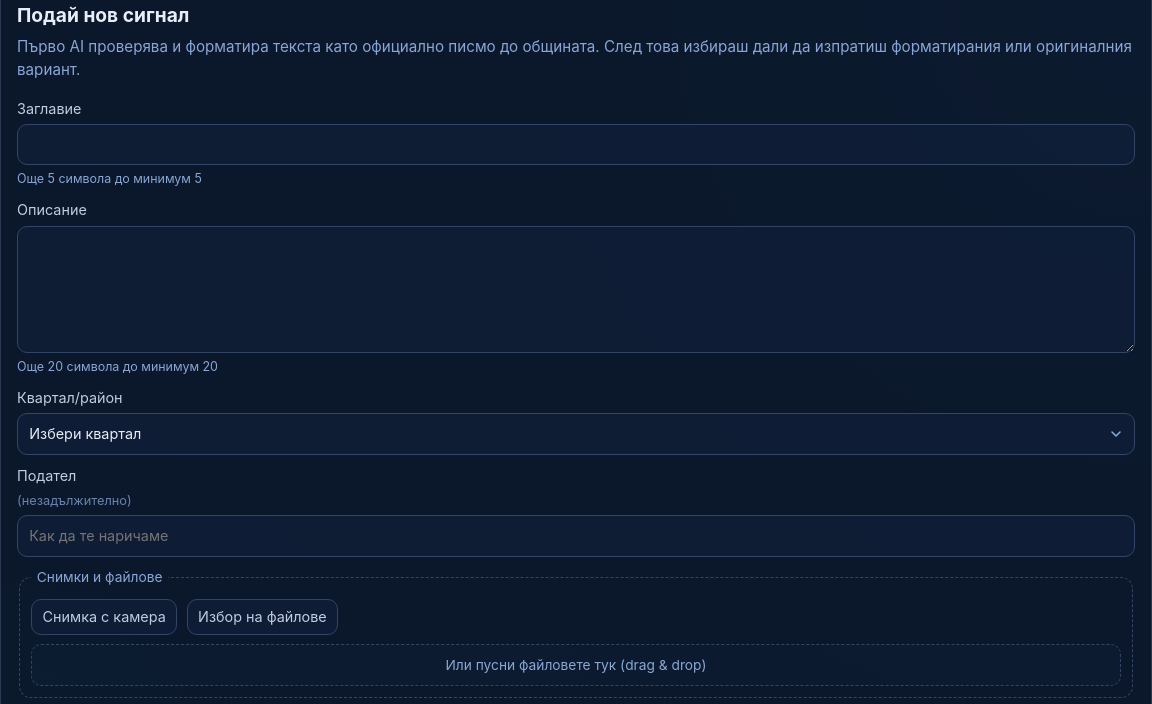
SignalForm › hides the original-text button when allow_original is false
The image size is (1152, 704).
Type "Test signal title" into the field labelled "Заглавие".
click(576, 145); type("Test signal title")  # box x1=17 y1=124 x2=1135 y2=165
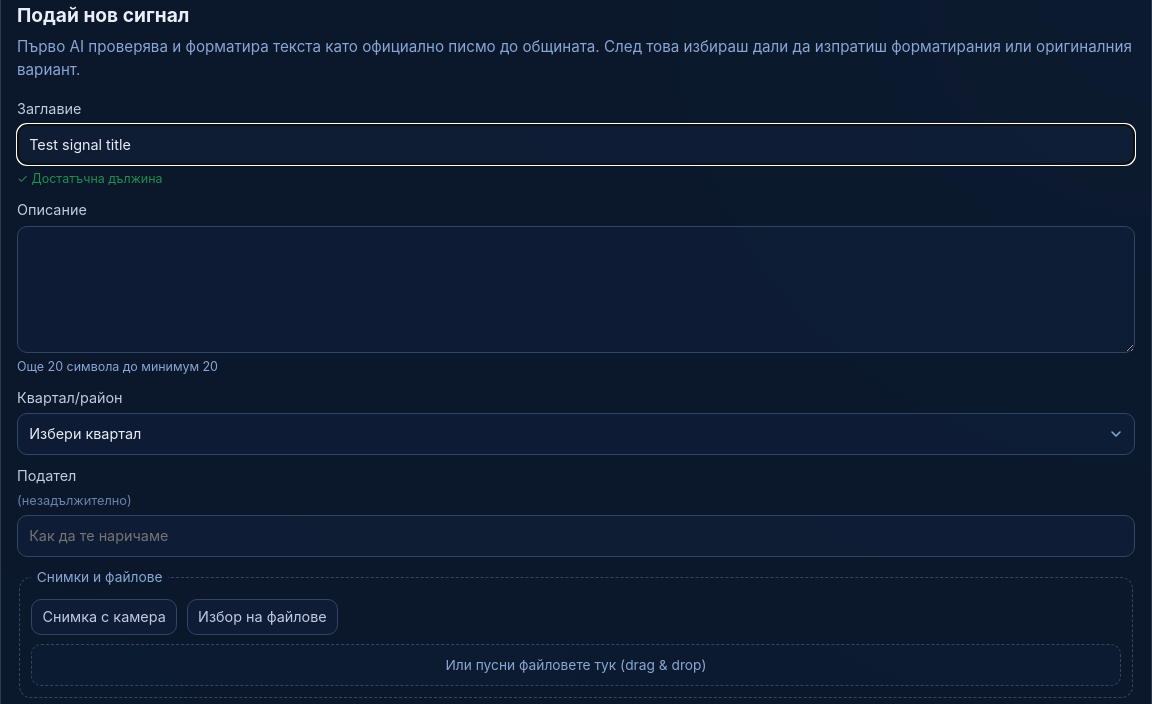
Type "This description is definitely long enough to pass validation." into the text box labelled "Описание".
click(576, 289); type("This description is definitely long enough to pass validation.")  # box x1=17 y1=226 x2=1135 y2=353
(page scrolled)
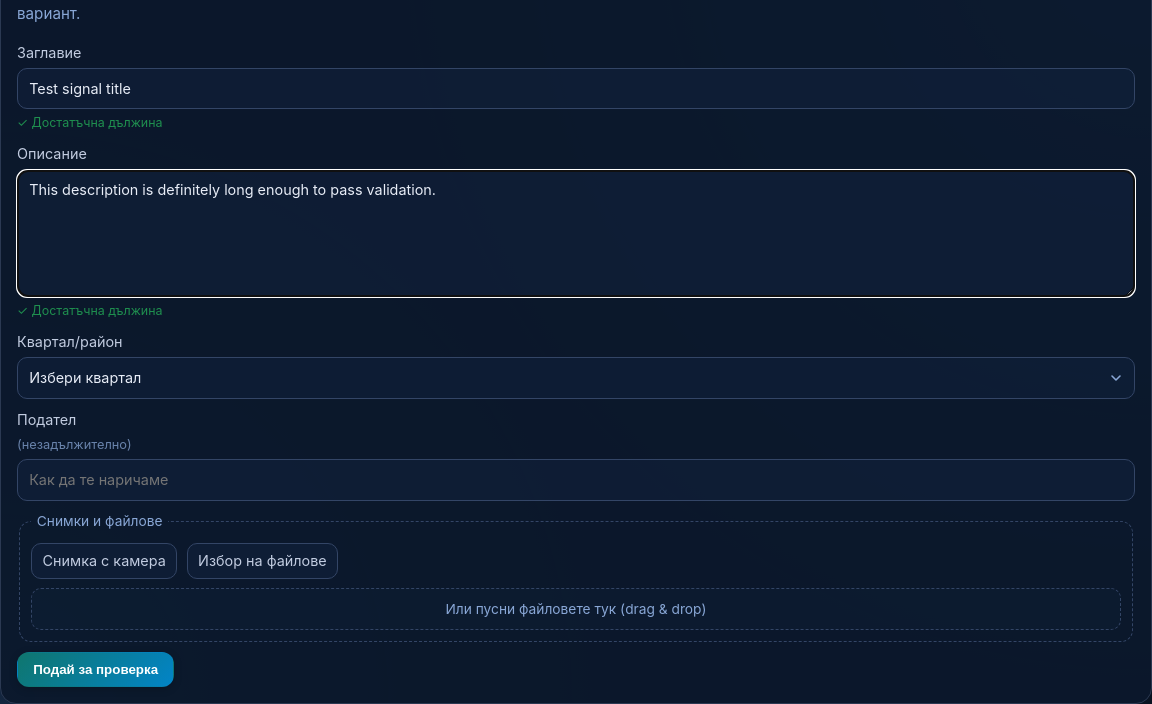
Click the button "Подай за проверка".
click(96, 670)  # box x1=17 y1=652 x2=174 y2=687
(page scrolled)
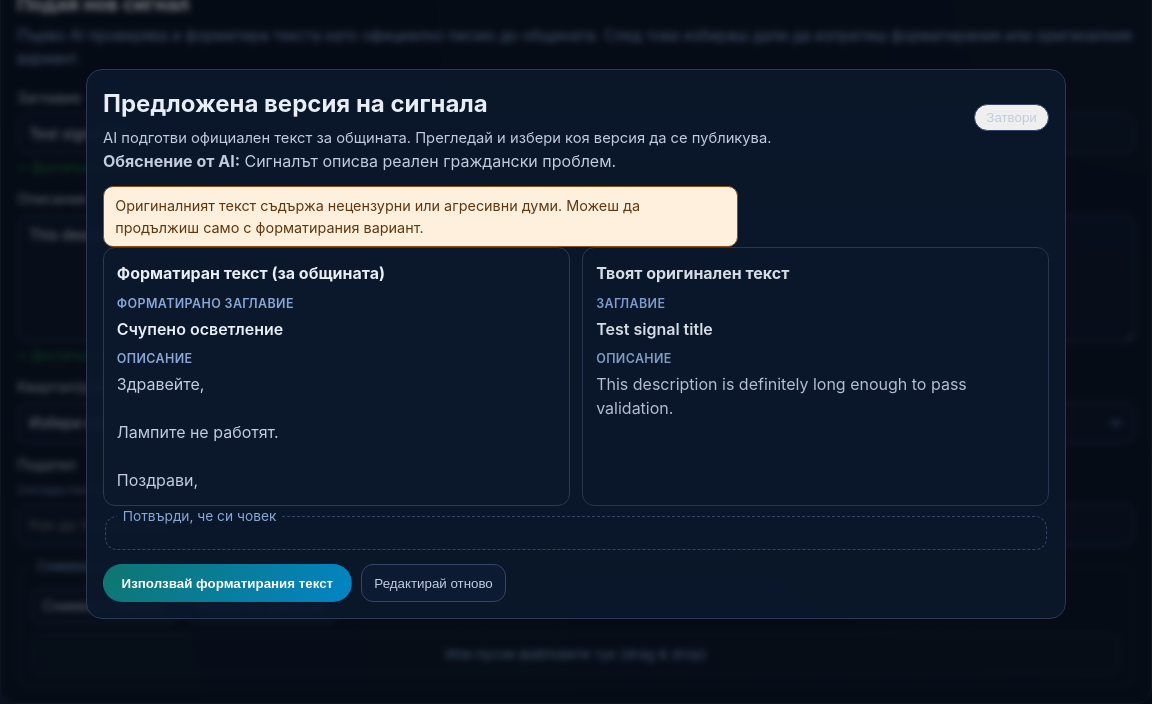
Result: the text "Оригиналният текст съдържа нецензурни или агресивни думи. Можеш да продължиш само с форматирания вариант." is shown at x1=115 y1=197 x2=640 y2=236
